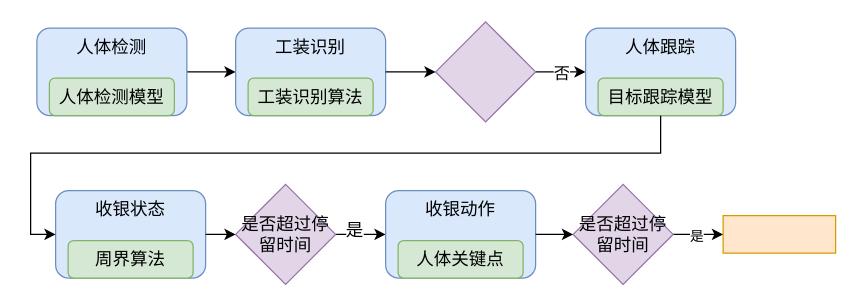
Image size: 858x306. Some labels were removed from this diagram. Here are the shapes that lost their labels. From the top down, the box of each, then its label:
(434, 21, 536, 122): 是否 店内员工
(722, 214, 836, 253): 外卖单计数+1
